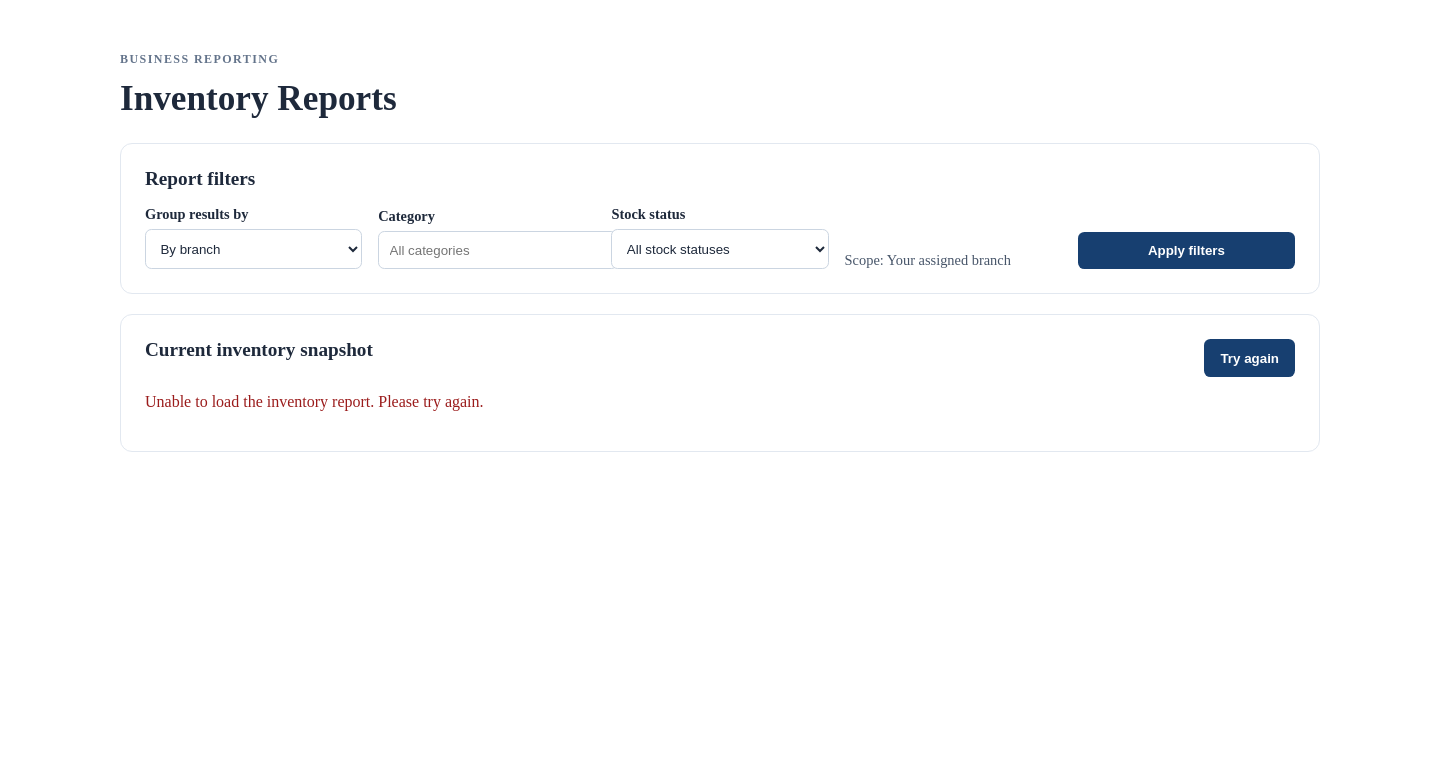
it: inventory reporting dashboard › can retry a network failure without displaying backend details
expect the message shows "Unable to load": met, box [145, 393, 484, 410]
Step 1. Click the button "Try again" → (1250, 358), box [1204, 339, 1295, 377]
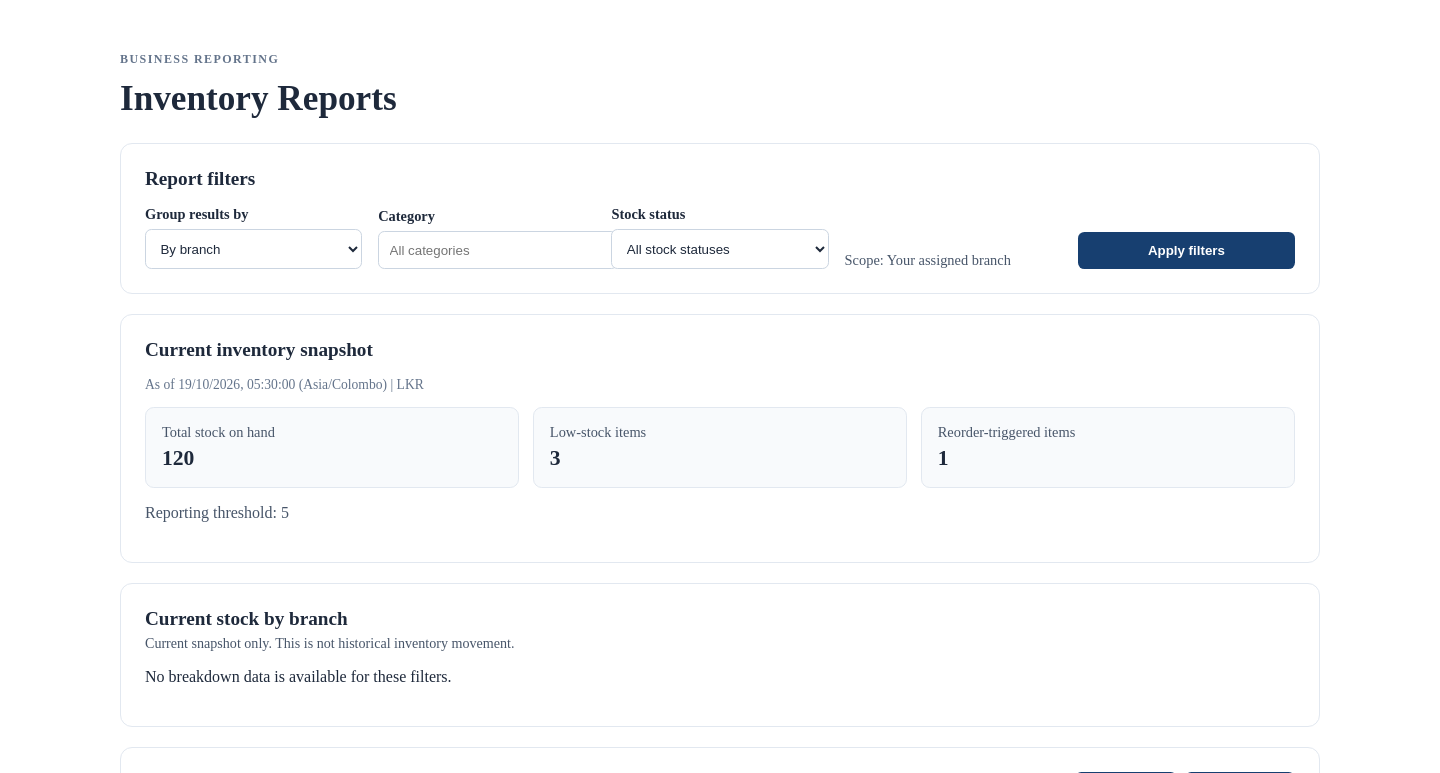
expect the text "Total stock on hand" is shown: met, box [162, 424, 275, 440]
